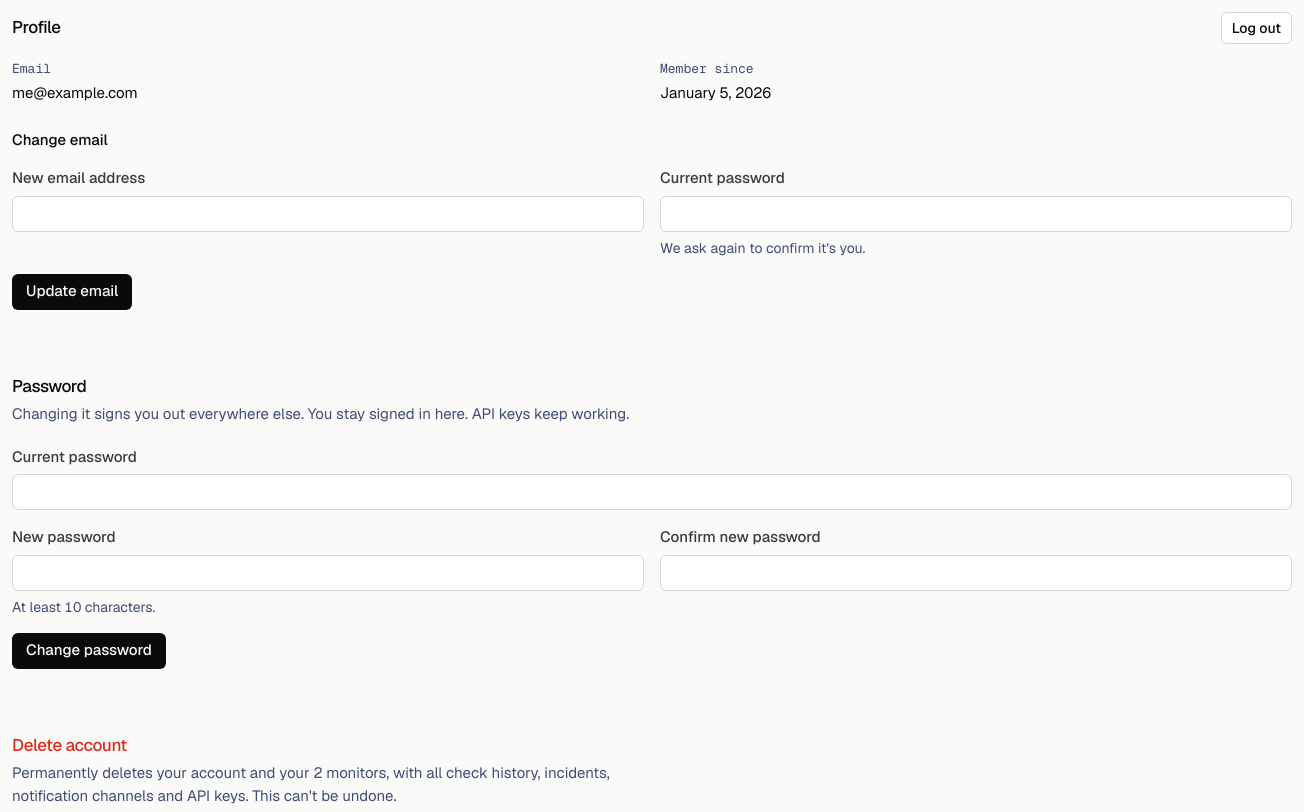
Test case: Account settings › explains a wrong current password in plain words
This screenshot has width=1304, height=812.
Type "wrong-password" into the 2nd password field labelled "Current password". click: (652, 492)
box: [12, 474, 1292, 510]
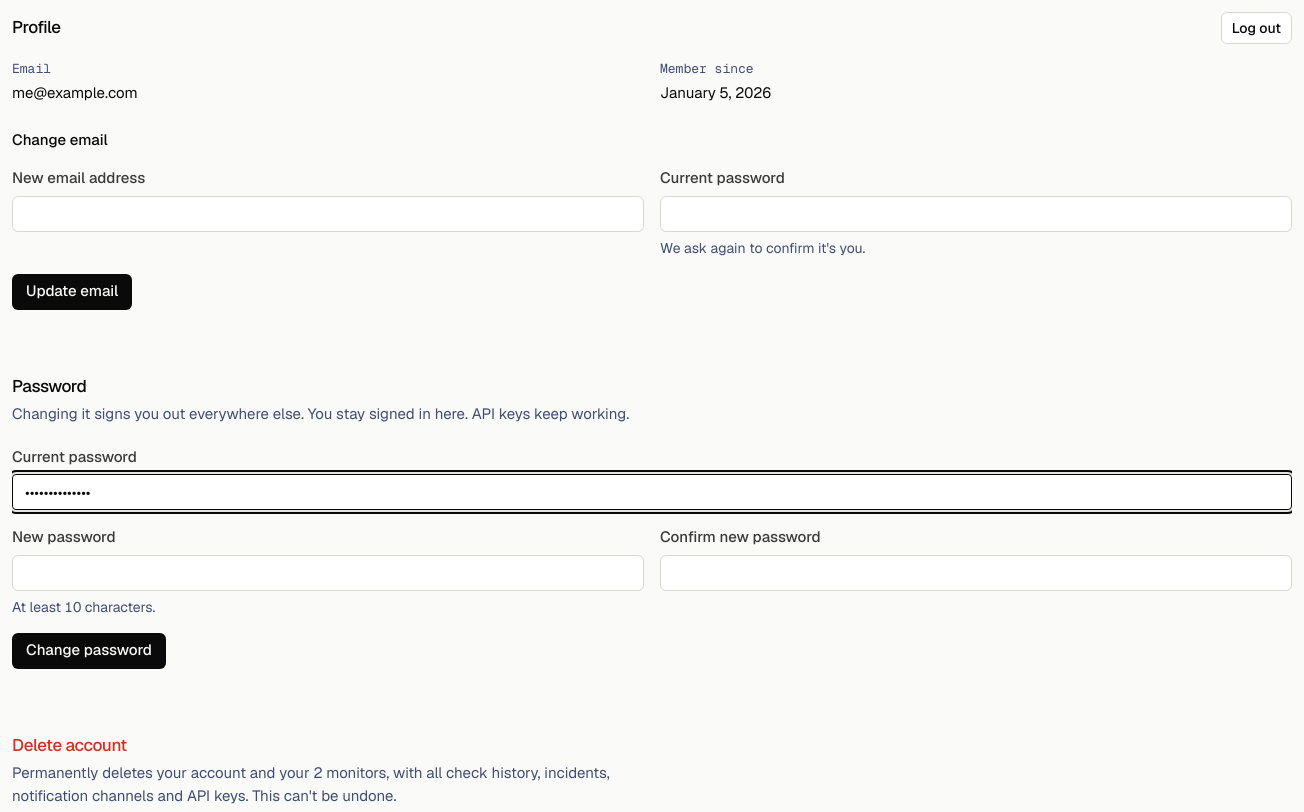
Type "brand-new-password" into the password field labelled "New password". click: (328, 572)
box: [12, 554, 644, 590]
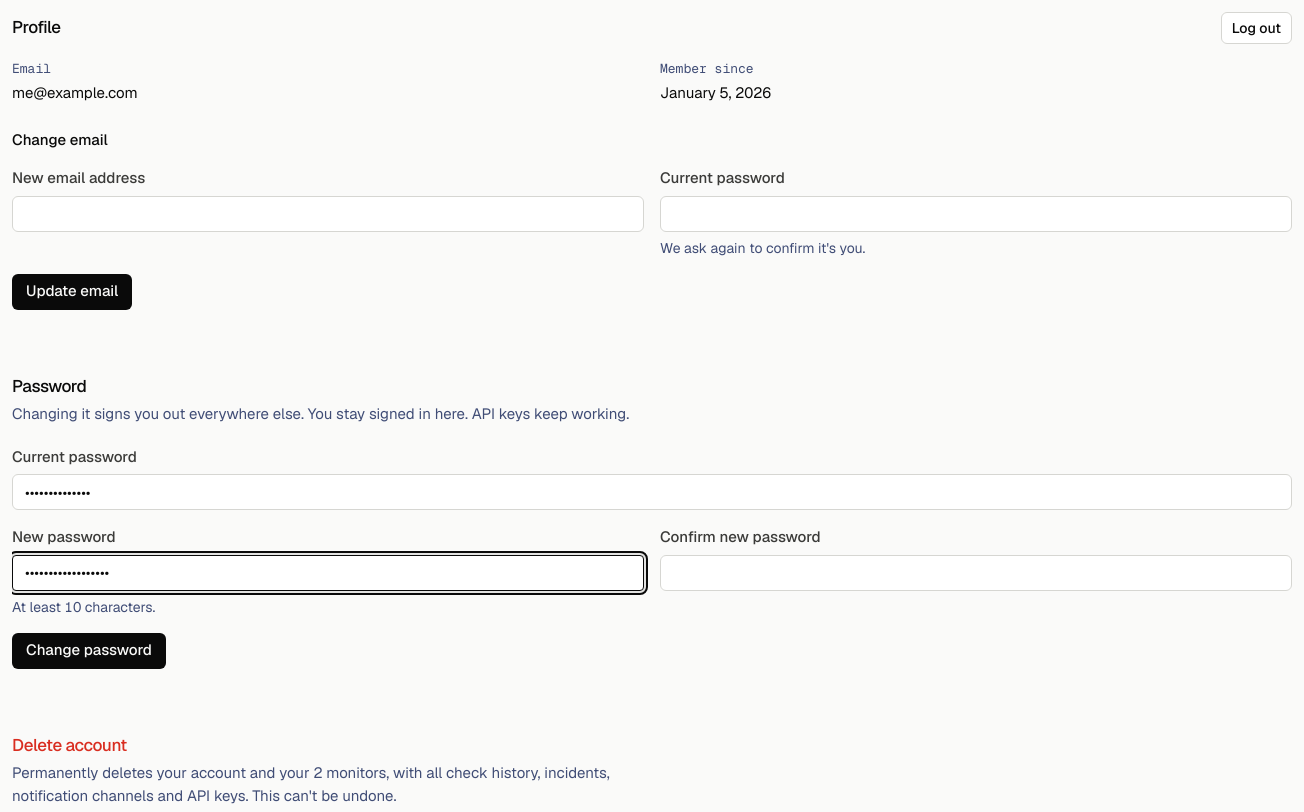
Type "brand-new-password" into the password field labelled "Confirm new password". click: (976, 572)
box: [660, 554, 1292, 590]
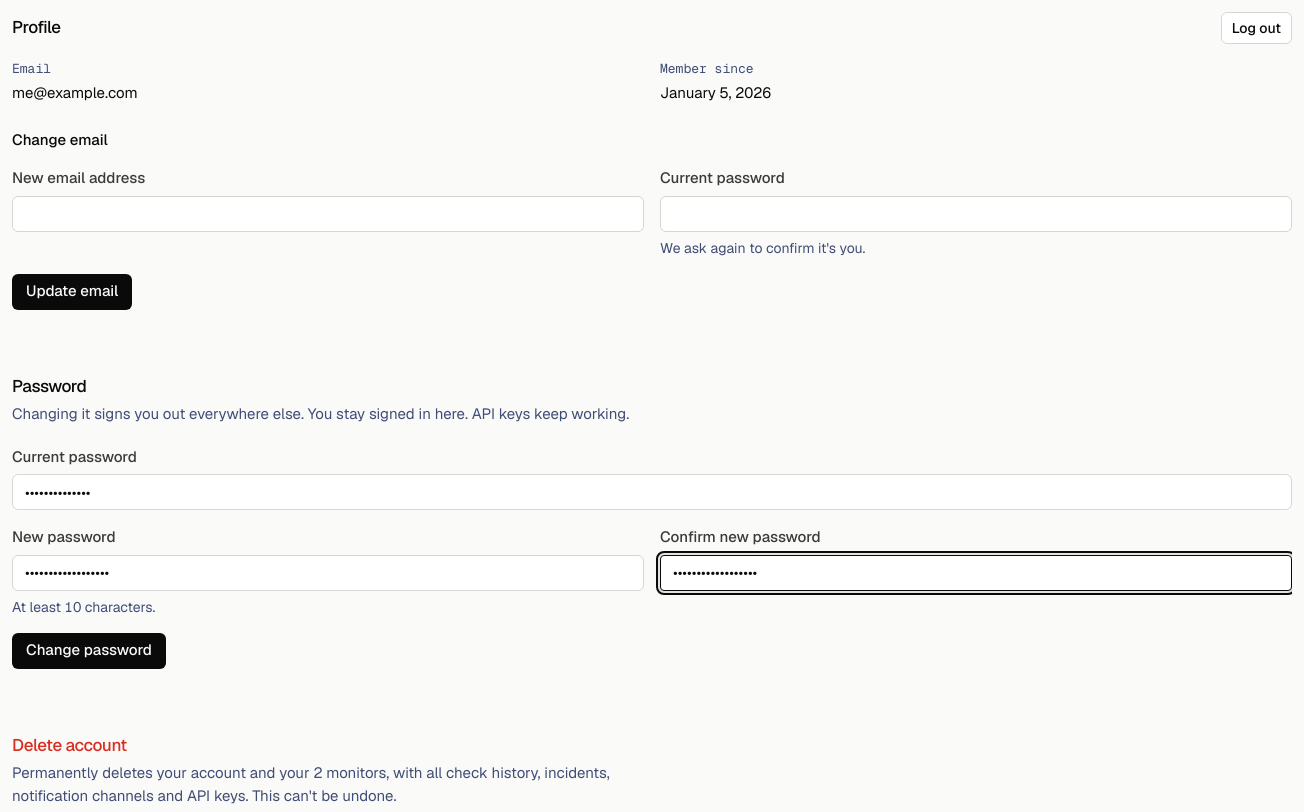
Click the button "Change password". click: (89, 650)
box: [12, 632, 166, 668]
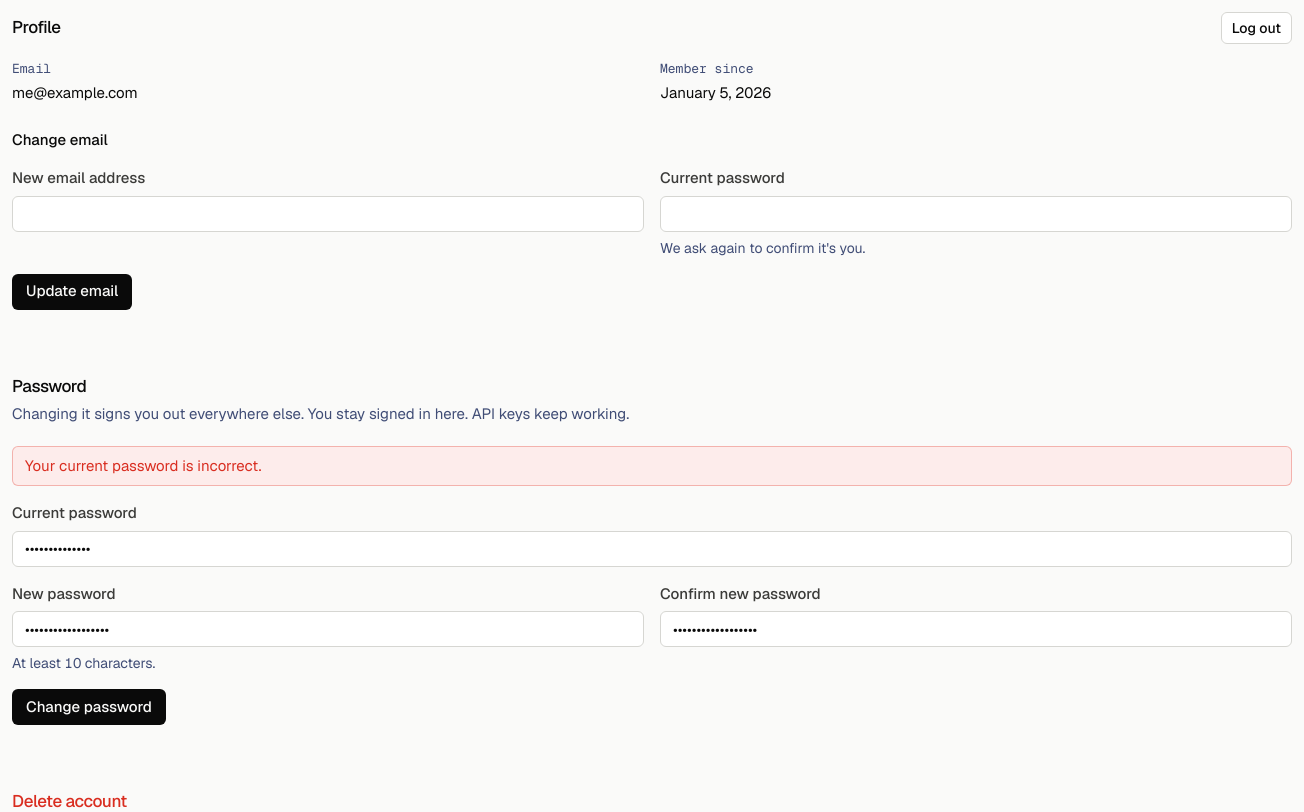
expect the text "Your current password is incorrect." is shown: met, box [12, 446, 1292, 486]
